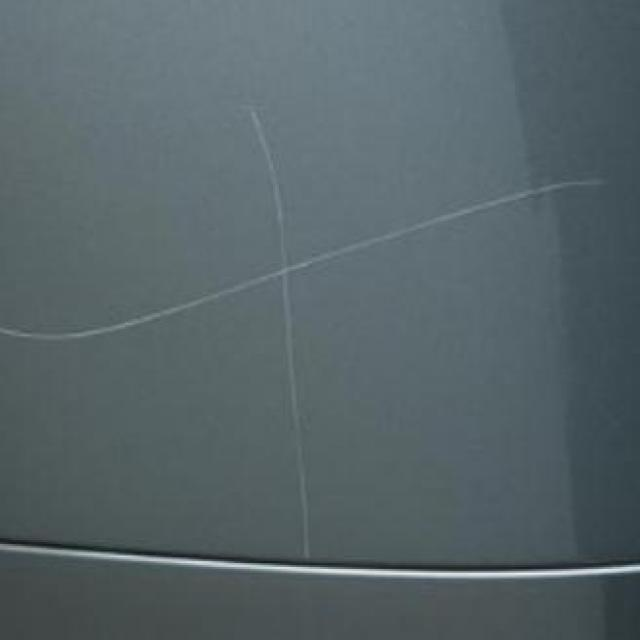scratch: (4, 164, 622, 351), (239, 95, 329, 578)
